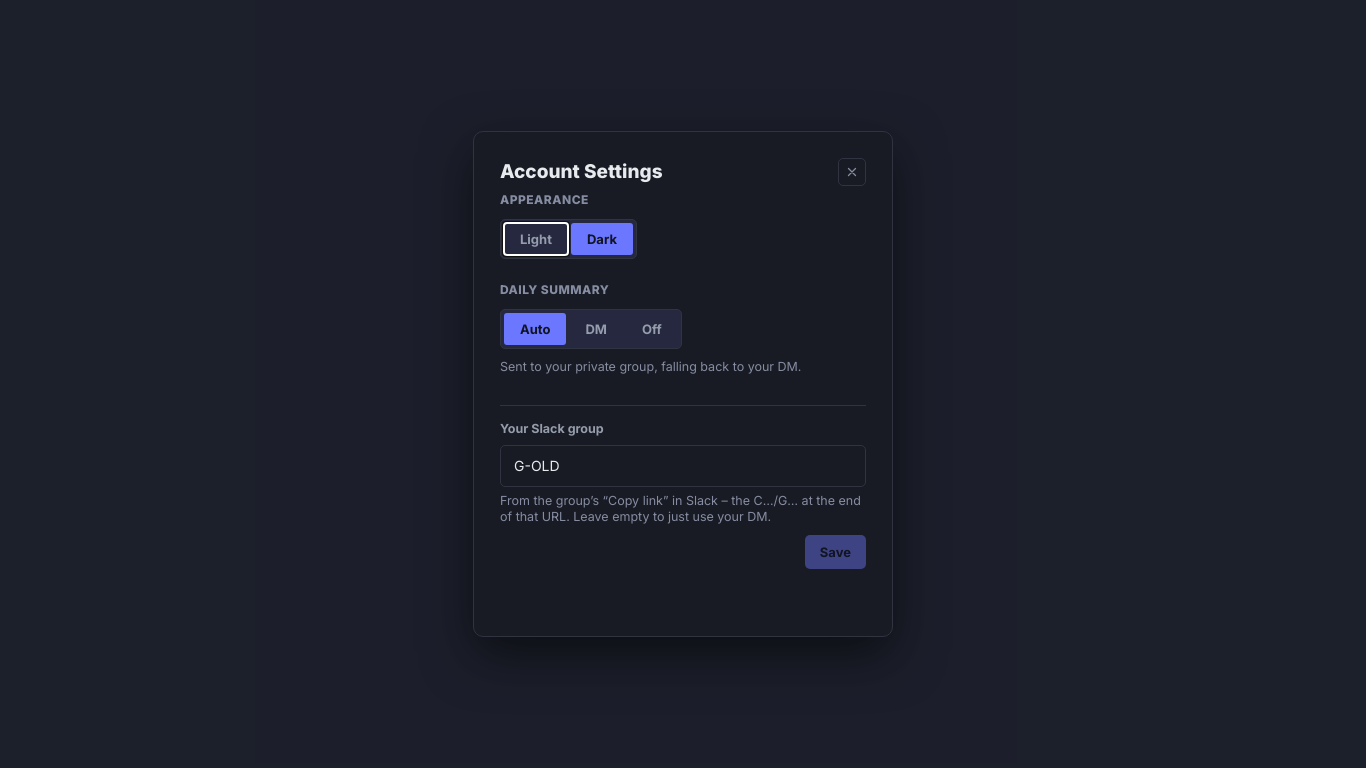
Scenario: AccountSettingsModal › Slack group id (only while Auto is selected) › should clear the field back to empty and say so
Step 1. Clear the field labelled "Your Slack group" → (683, 466), box [500,445,866,487]
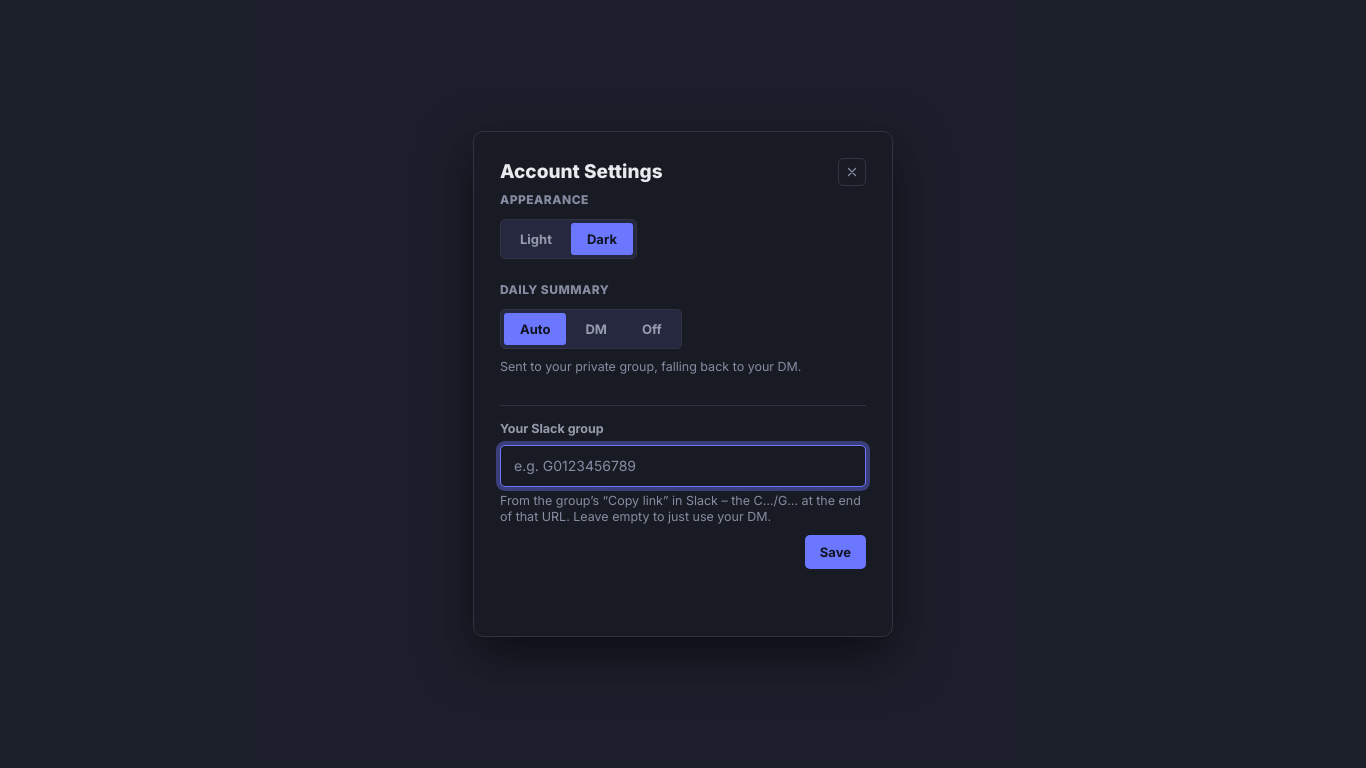
Step 2. Click the button "Save" → (835, 552), box [805,535,866,569]
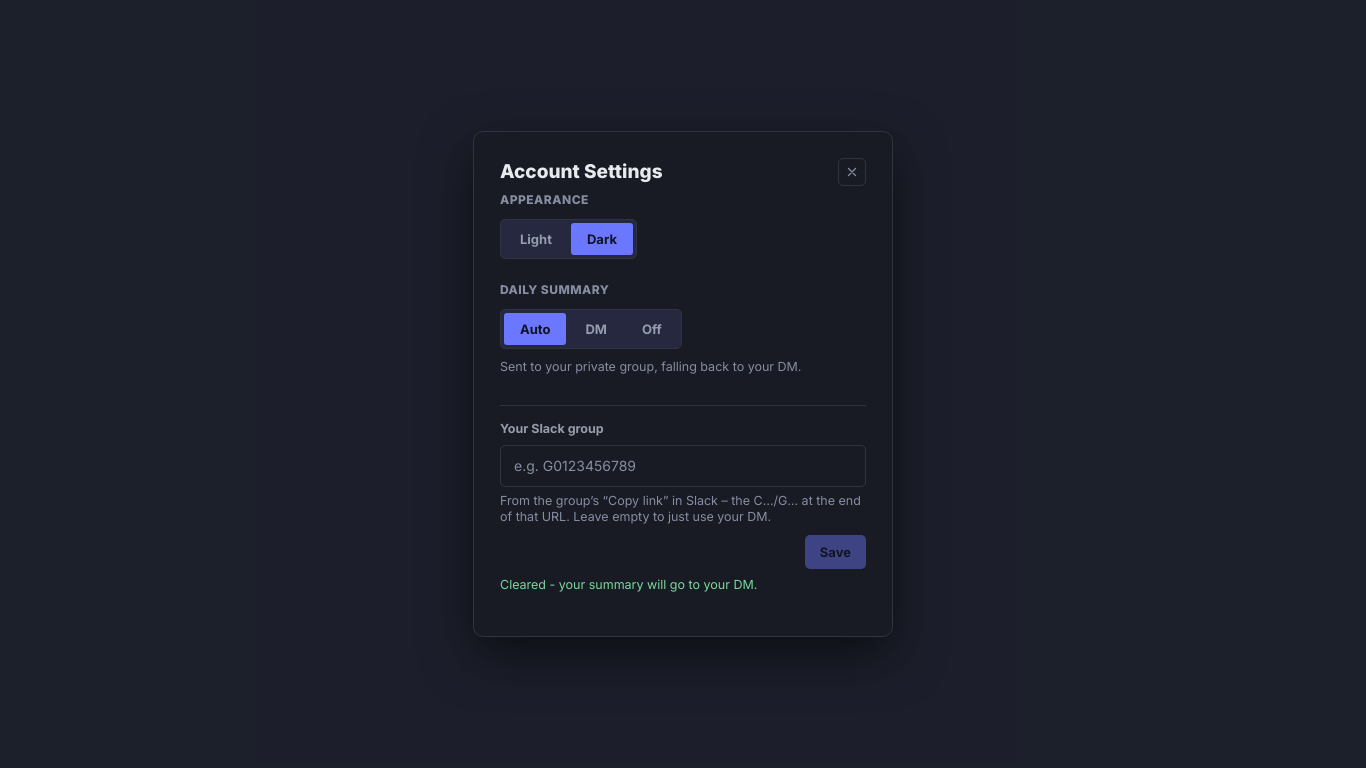
expect the text "Cleared - your summary will go to your DM." is shown: met, box [500,577,757,592]
